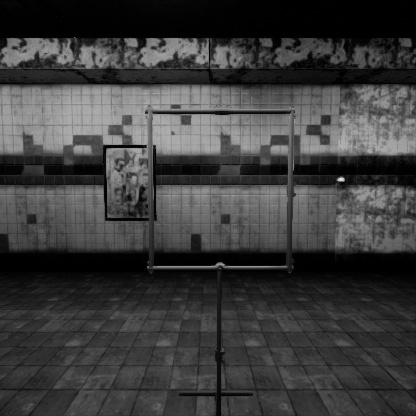gate: (147, 143, 308, 308)
